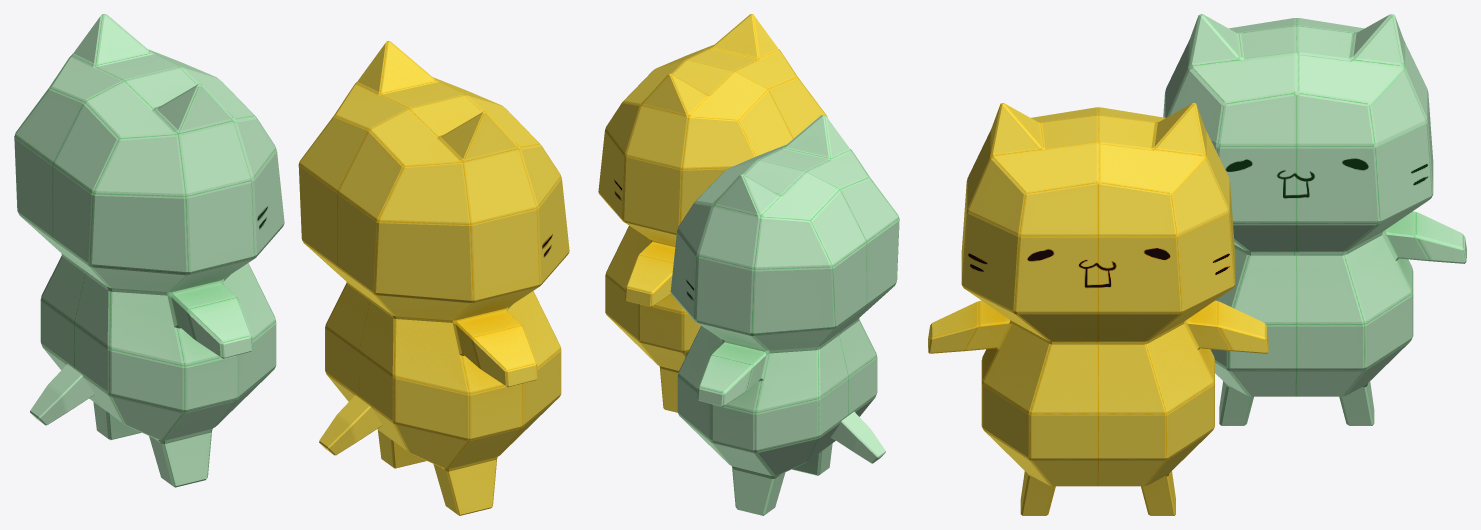
The model's file is mitchiriPoly_export.fbx.
3 views of the same model, side by side, from view 1: azimuth 30°, elevation 25°; view 2: azimuth 150°, elevation 25°; view 3: azimuth 270°, elevation 25° (orthographic). The views are drawn at different scales.
Parts seen in each view (by area): view 1: mitchi.006, mitchi.005; view 2: mitchi.005, mitchi.006; view 3: mitchi.006, mitchi.005.
Boxes of the visible parts, x1,y1,x2,y2 form: mitchi.006: (298, 41, 569, 515); mitchi.005: (14, 14, 284, 487); mitchi.005: (670, 115, 899, 515); mitchi.006: (598, 14, 827, 412); mitchi.006: (928, 103, 1268, 515); mitchi.005: (1163, 14, 1466, 425).
Size of the model in its own units: 533 by 528 by 636.
